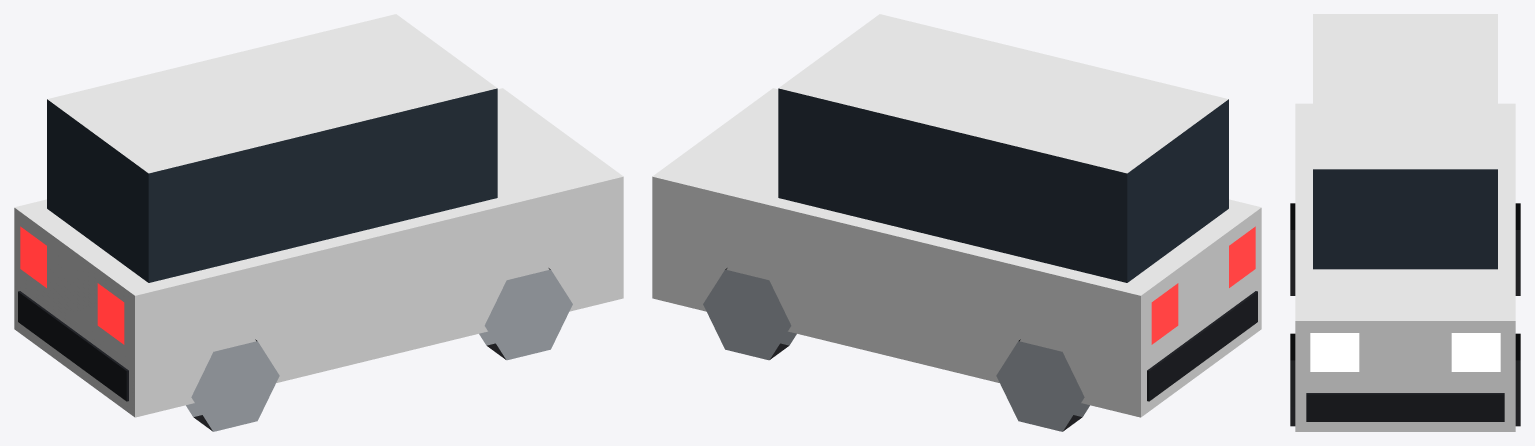
The model's file is van.glb.
The picture shows the model from 3 angles, left to right: view 1: azimuth 30°, elevation 25°; view 2: azimuth 150°, elevation 25°; view 3: azimuth 270°, elevation 25°; orthographic projection. The views are drawn at different scales.
Visible parts, largest first — view 1: van; view 2: van; view 3: van.
Part boxes in pixels (left/top/right/bottom): van: left=14, top=14, right=623, bottom=431; van: left=652, top=14, right=1261, bottom=431; van: left=1290, top=14, right=1520, bottom=431.
Bounding box in the file's own units: 0.424 × 0.2153 × 0.188.
